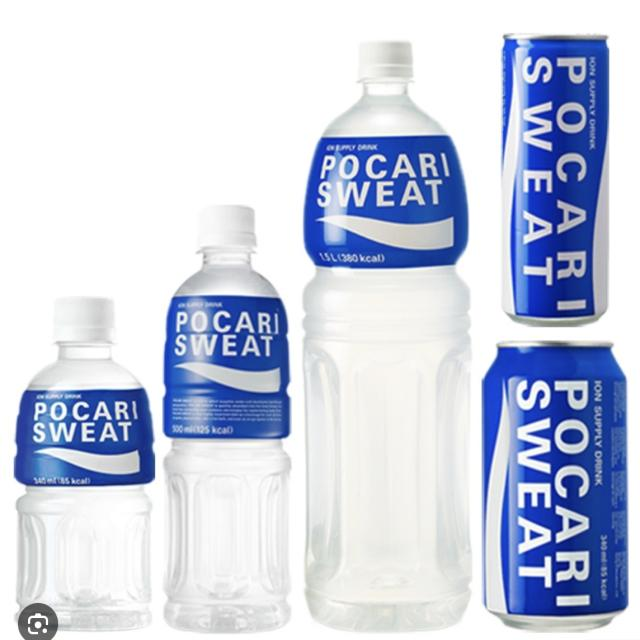recyclable: (298, 36, 476, 639), (142, 174, 294, 634), (478, 334, 632, 640), (490, 27, 623, 332)
